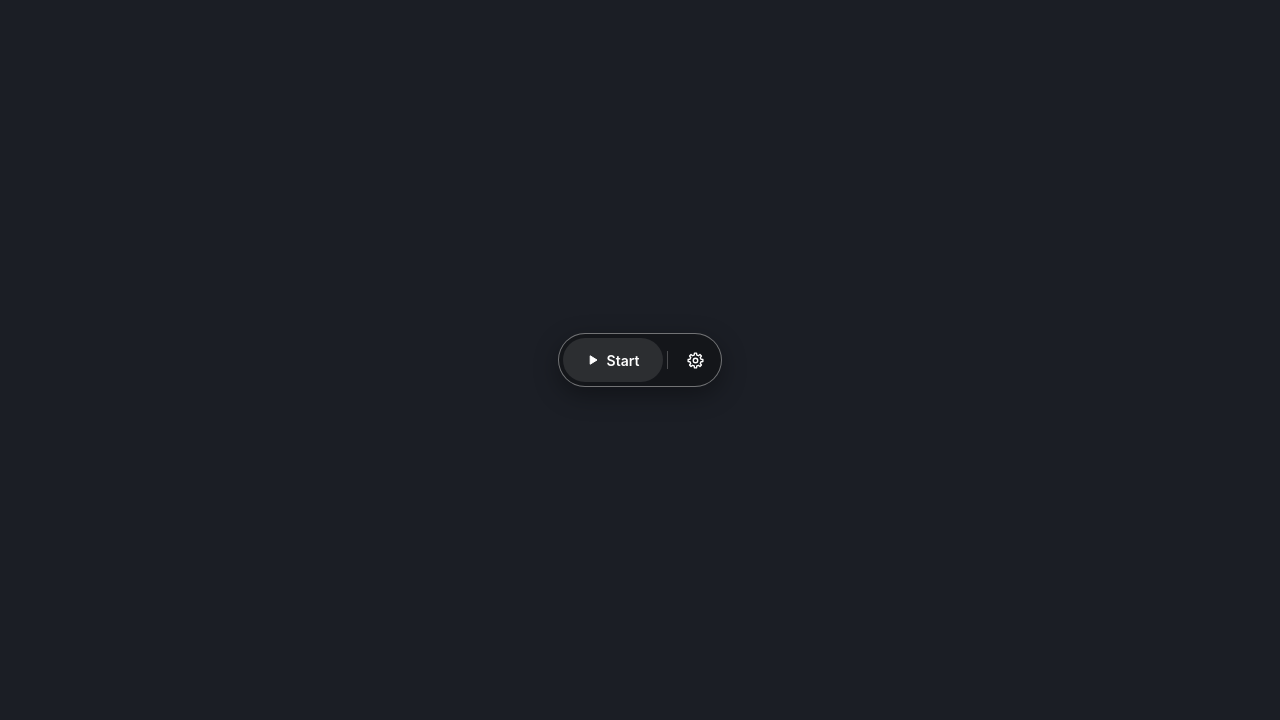
Scenario: preset picker › choosing no preset keeps the values and clears the selection
Step 1. Type keys "s"
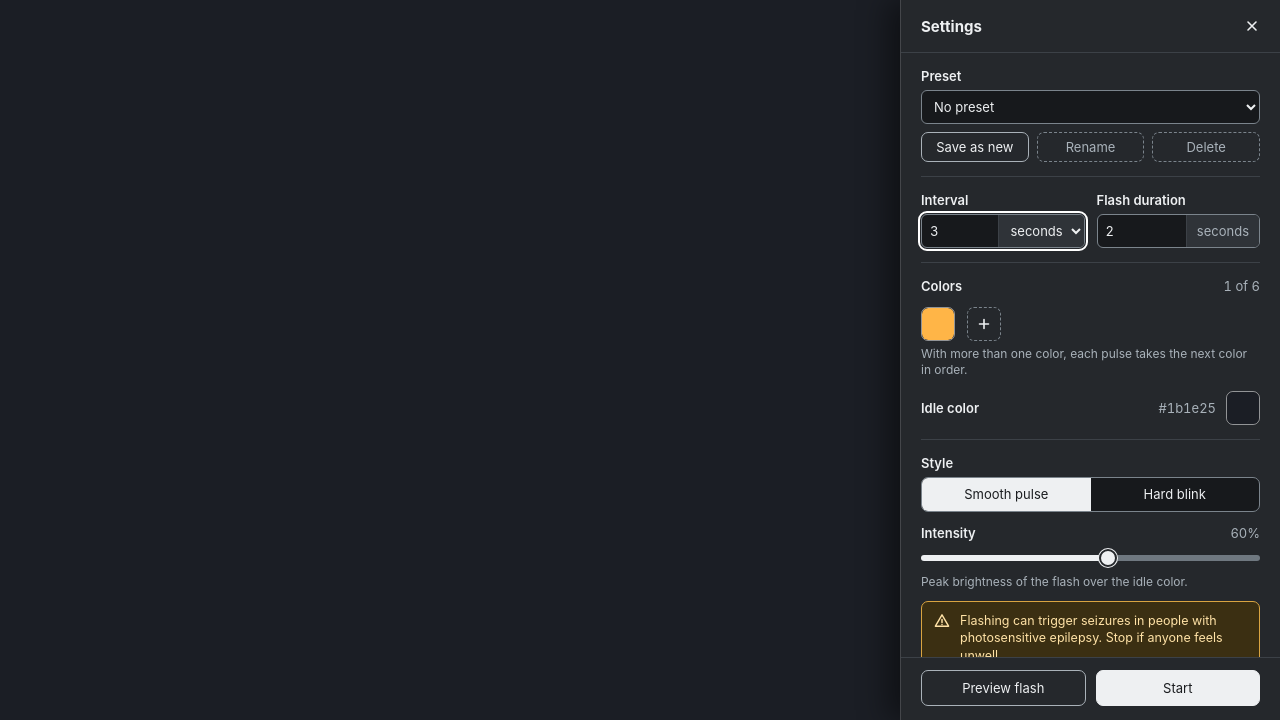
Step 2. Select "Slow" in the dropdown labelled "Preset" → (1090, 107), box [922, 91, 1259, 123]
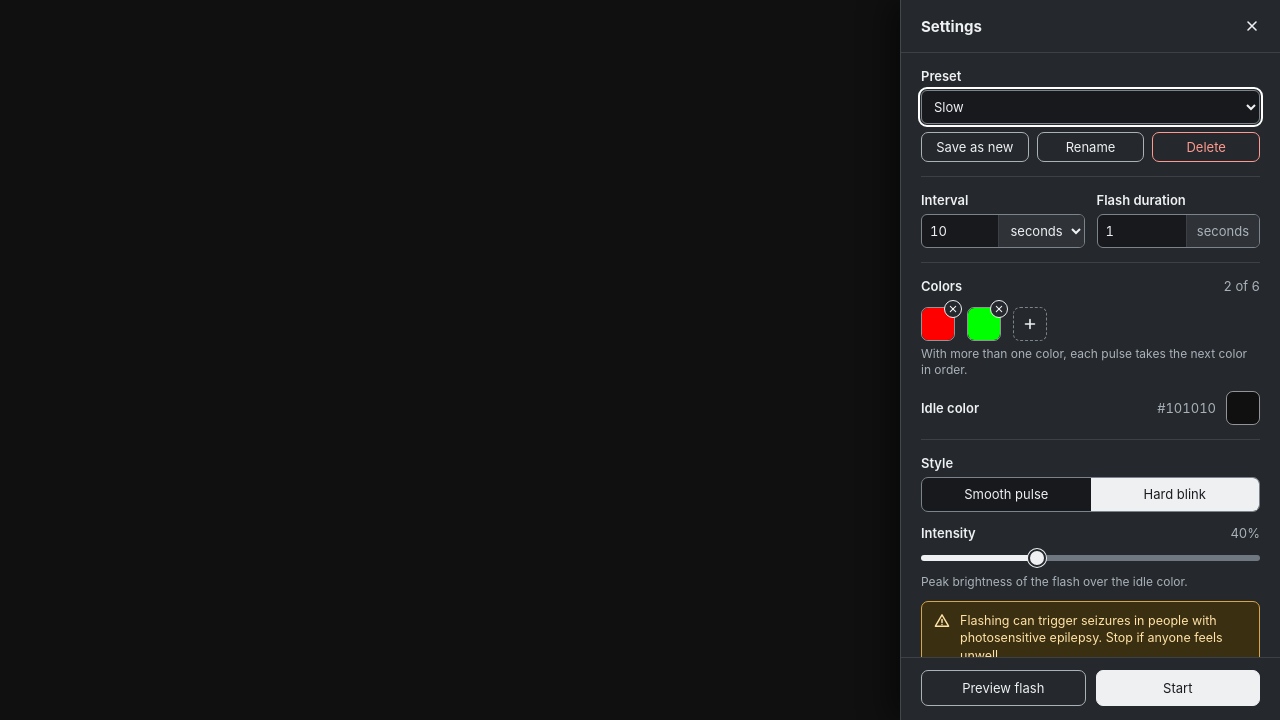
Step 3. Select "No preset" in the dropdown labelled "Preset" → (1090, 107), box [922, 91, 1259, 123]
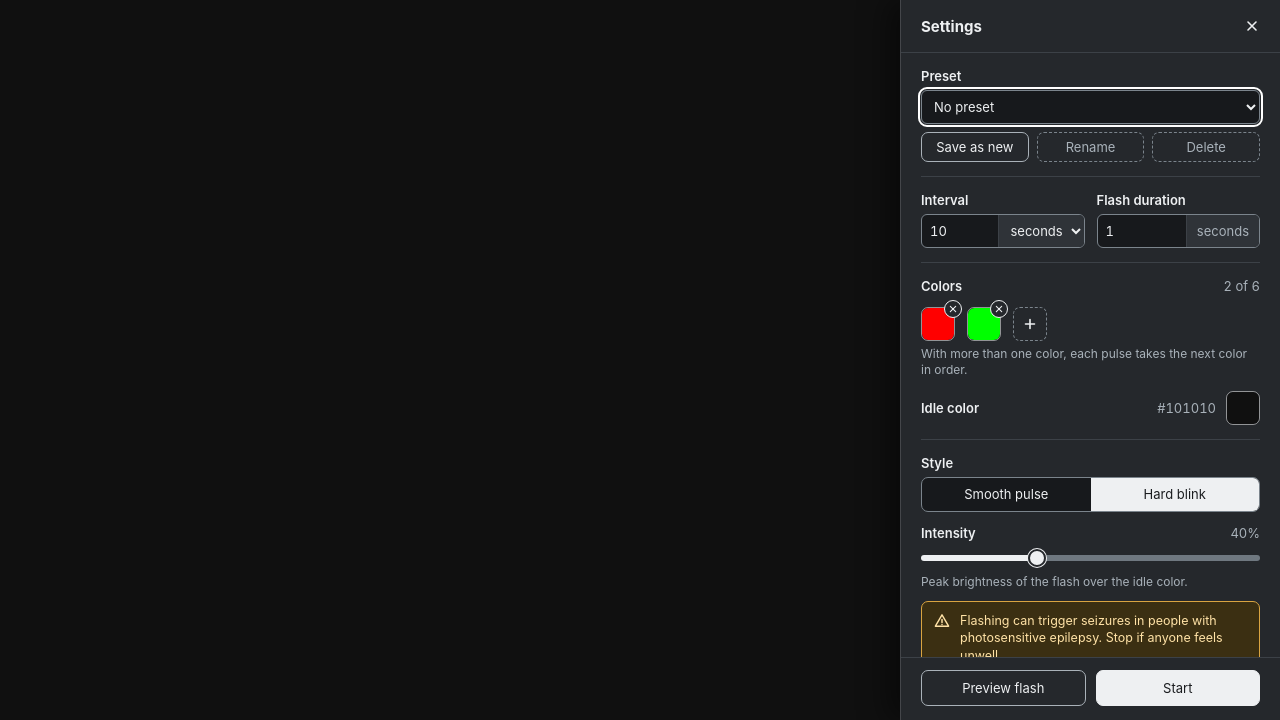
Expected: the number field labelled "Interval" holds "10", [922, 215, 998, 247]
Expected: the button "Rename" is disabled, [1037, 132, 1144, 162]
